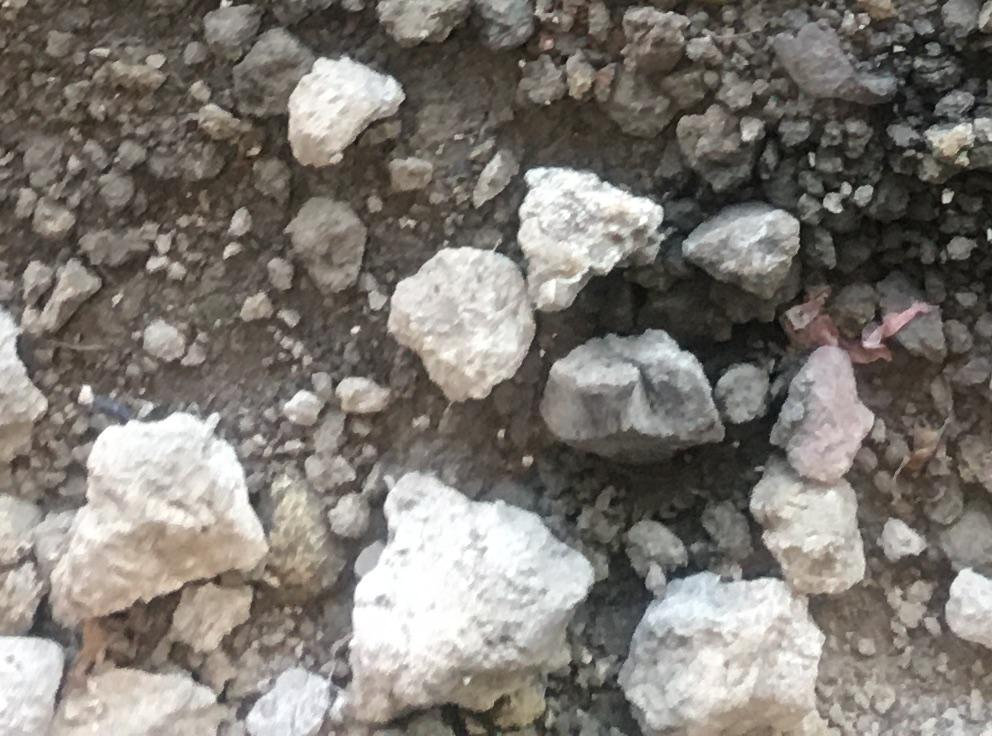block: (353, 469, 580, 722), (60, 417, 265, 628), (621, 574, 822, 736), (543, 325, 725, 462), (385, 242, 529, 403), (514, 164, 661, 318), (748, 457, 873, 597), (765, 346, 880, 488), (282, 55, 412, 172), (681, 195, 789, 318)
